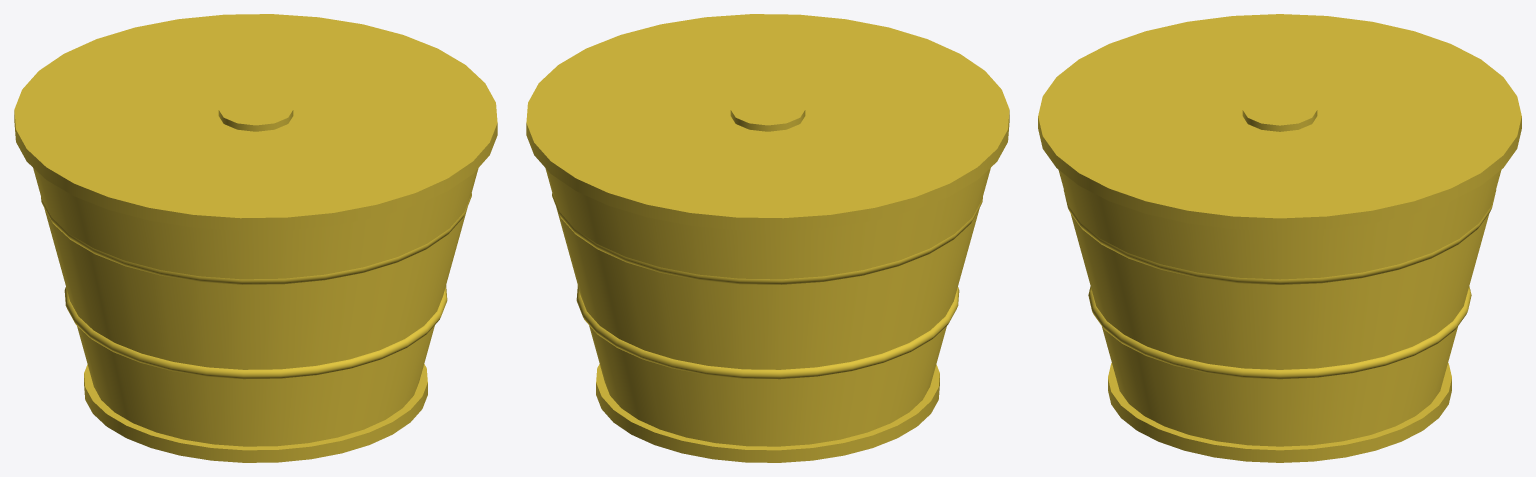
Rendered from 01_trong_dong.glb.
The picture shows the model from 3 angles, left to right: view 1: azimuth 30°, elevation 25°; view 2: azimuth 150°, elevation 25°; view 3: azimuth 270°, elevation 25°; orthographic projection.
Parts seen in each view (by area): view 1: TrongDongDongSon; view 2: TrongDongDongSon; view 3: TrongDongDongSon.
Boxes of the visible parts, bbox=[...] form: TrongDongDongSon: bbox=[14, 14, 497, 462]; TrongDongDongSon: bbox=[526, 14, 1009, 462]; TrongDongDongSon: bbox=[1038, 14, 1521, 462].
Bounding box in the file's own units: 1.04 × 0.665 × 1.04.
